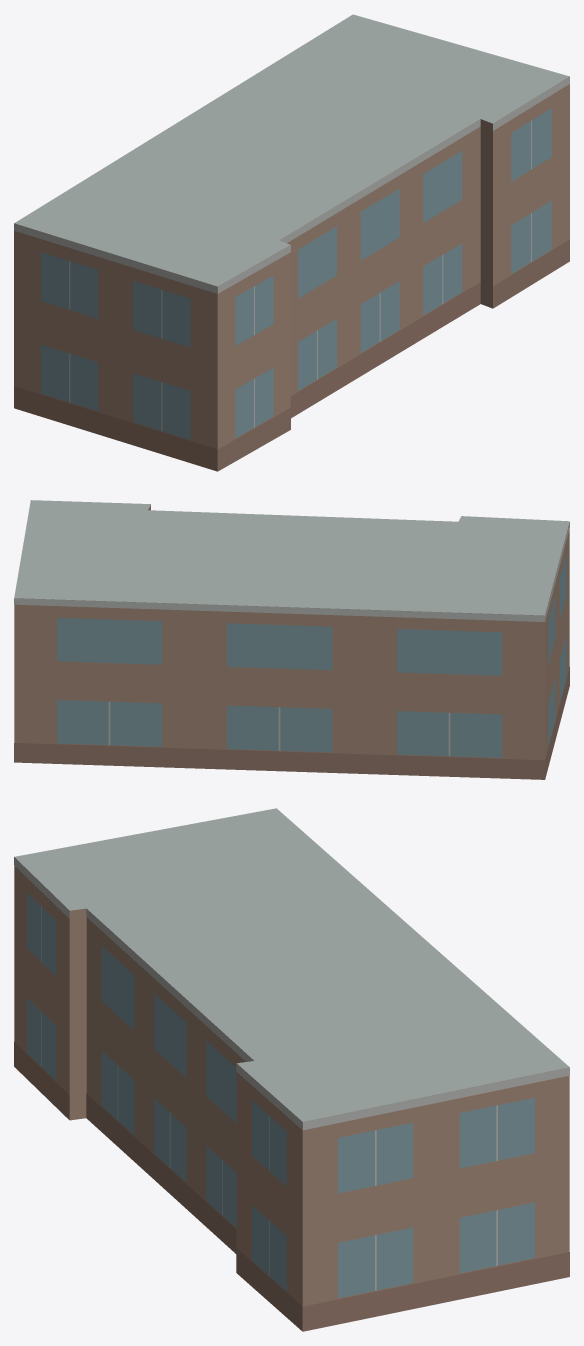
The model's file is survey-upis-32687548.glb.
The picture shows the model from 3 angles, top to bottom: view 1: azimuth 30°, elevation 25°; view 2: azimuth 150°, elevation 25°; view 3: azimuth 270°, elevation 25°; orthographic projection. The views are drawn at different scales.
Parts seen in each view (by area): view 1: survey-upis-32687548.tmp; view 2: survey-upis-32687548.tmp; view 3: survey-upis-32687548.tmp.
Boxes of the visible parts, x1=… form: survey-upis-32687548.tmp: x1=14, y1=14, x2=569, y2=471; survey-upis-32687548.tmp: x1=14, y1=500, x2=569, y2=779; survey-upis-32687548.tmp: x1=14, y1=808, x2=569, y2=1331.
Size of the model in its own units: 19.59 by 6.1 by 14.66.
